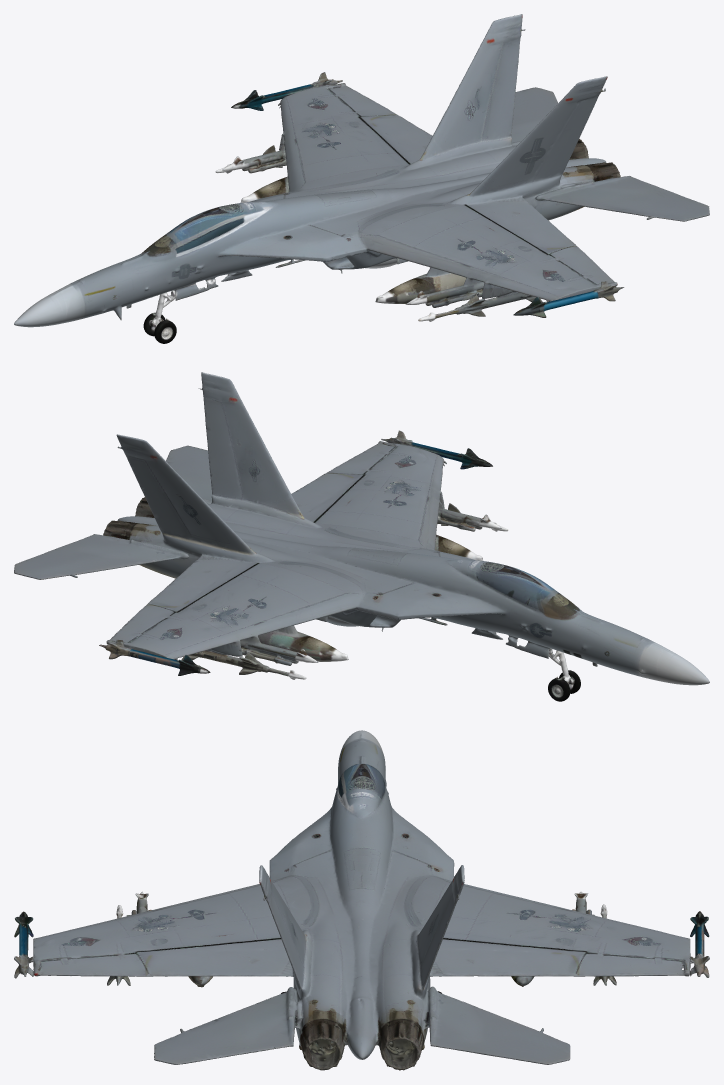
File: Meshy_AI_F_A_18_Hornet_in_Flig_0404140344_texture.glb
The picture shows the model from 3 angles, top to bottom: view 1: azimuth 30°, elevation 25°; view 2: azimuth 150°, elevation 25°; view 3: azimuth 270°, elevation 25°; orthographic projection. The views are drawn at different scales.
Size of the model in its own units: 1.9 by 0.5751 by 1.55.
Materials: 1 (1 with a texture image).
